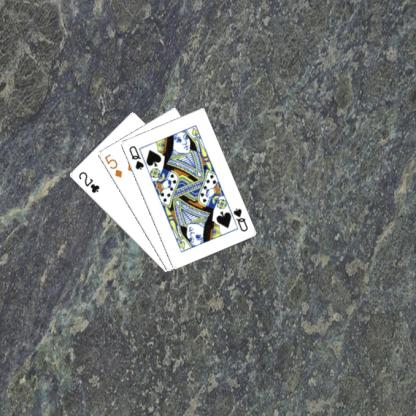2C: (76, 168, 100, 194)
5D: (102, 151, 124, 179)
QS: (126, 143, 145, 171), (230, 205, 249, 233)
